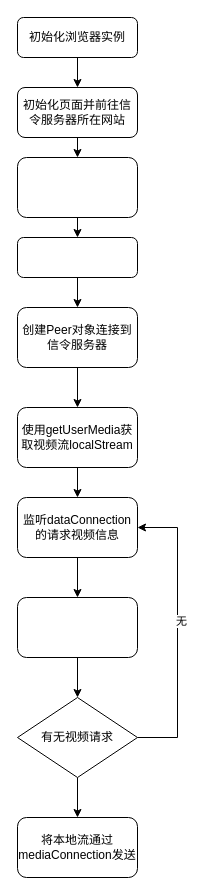
Image size: 204x895. Some labels were removed from this diagram. Here are the shapes that lost their labels. From the top down, the box of each, then its label:
(16, 156, 138, 218): 创建默认页面上下文
(16, 236, 138, 278): 注入PeerJS脚本
(16, 596, 138, 658): 有其他Peer连接
